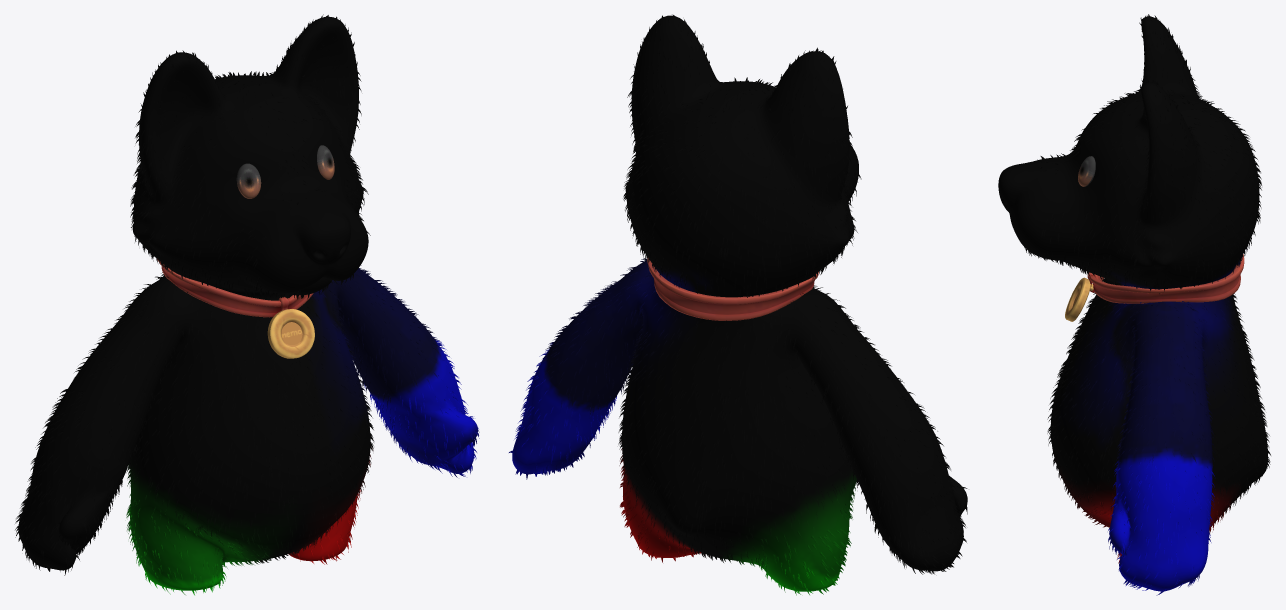
File: nemo_layered_v1.glb
The picture shows the model from 3 angles, left to right: view 1: azimuth 30°, elevation 25°; view 2: azimuth 150°, elevation 25°; view 3: azimuth 270°, elevation 25°; orthographic projection. The views are drawn at different scales.
Visible parts, largest first — view 1: Body, LayeredCurvedGroom, Collar, Nemo_Normal; view 2: Body, LayeredCurvedGroom, Collar; view 3: Body, LayeredCurvedGroom, Collar, Nemo_Normal.
Part boxes in pixels (box(x1,y1,x2,y2)): Body: box(18, 16, 477, 590); LayeredCurvedGroom: box(15, 14, 479, 595); Collar: box(157, 259, 314, 358); Nemo_Normal: box(236, 145, 334, 198); Body: box(512, 15, 967, 591); LayeredCurvedGroom: box(509, 14, 967, 595); Collar: box(647, 258, 818, 320); Body: box(998, 16, 1267, 591); LayeredCurvedGroom: box(1024, 14, 1270, 595); Collar: box(1065, 254, 1244, 321); Nemo_Normal: box(1078, 130, 1095, 186).
Bounding box in the file's own units: 2.33 × 2.7 × 1.35.
Materials: 4 (4 with a texture image).
